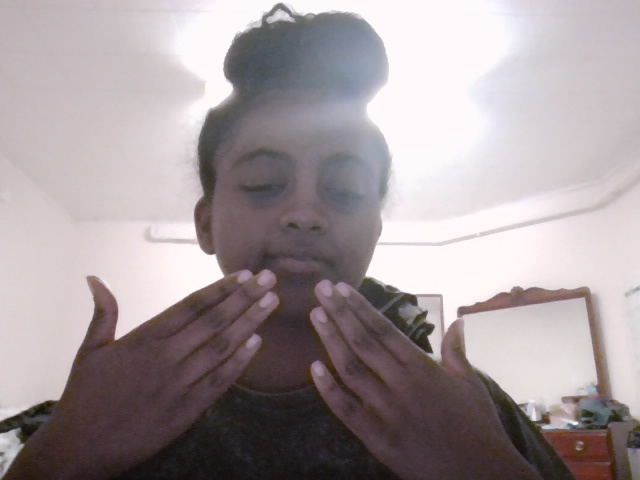Thanks: (31, 272, 556, 477)
